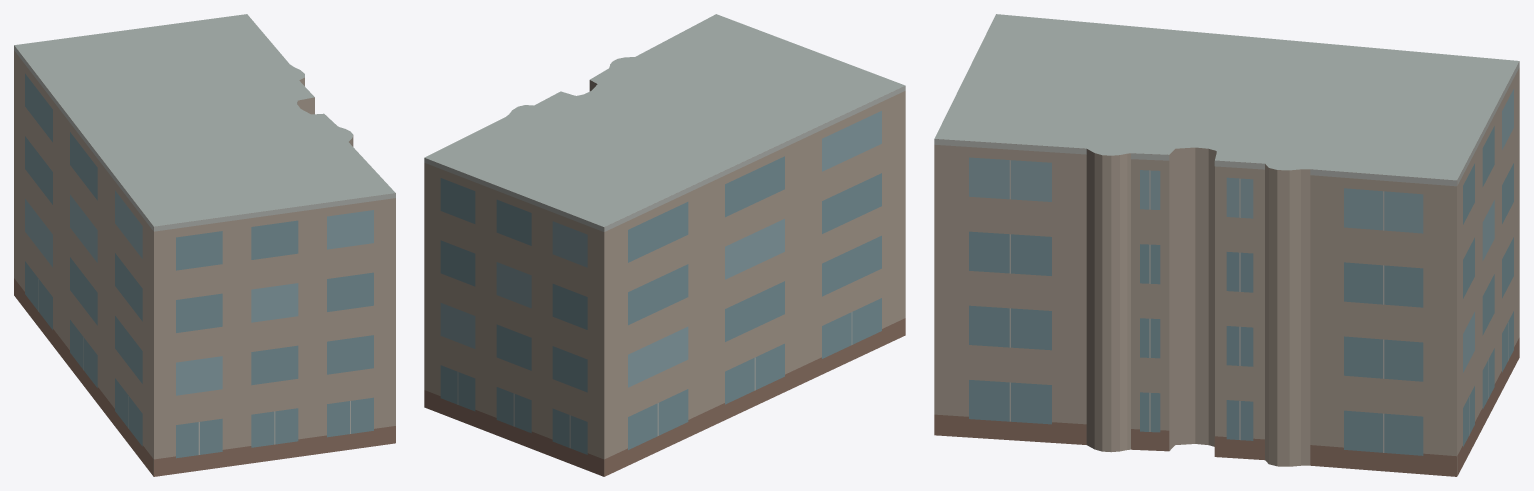
Rendered from survey-upis-32862079.glb.
3 views of the same model, side by side, from view 1: azimuth 30°, elevation 25°; view 2: azimuth 150°, elevation 25°; view 3: azimuth 270°, elevation 25° (orthographic). The views are drawn at different scales.
Parts seen in each view (by area): view 1: survey-upis-32862079.tmp; view 2: survey-upis-32862079.tmp; view 3: survey-upis-32862079.tmp.
Part boxes in pixels (x1,y1,x2,y2): survey-upis-32862079.tmp: [14, 14, 395, 476]; survey-upis-32862079.tmp: [424, 14, 905, 476]; survey-upis-32862079.tmp: [934, 14, 1519, 476].
Size of the model in its own units: 14.7 by 12.2 by 21.84.
